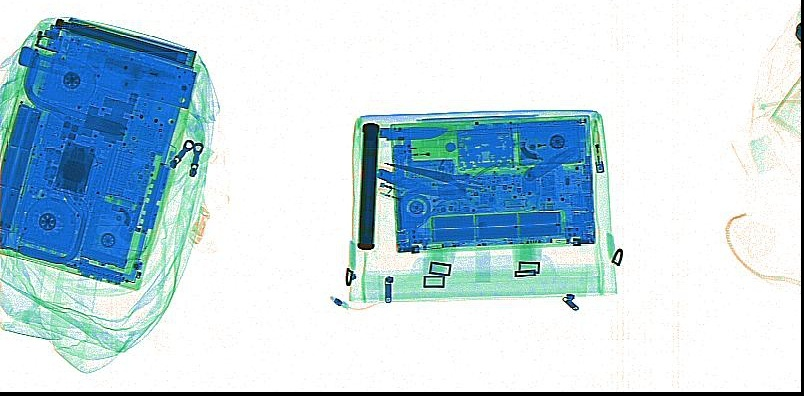knife: (16, 29, 197, 106), (524, 143, 573, 182), (373, 163, 429, 194), (374, 125, 449, 140)
lighter: (587, 118, 604, 173)
scissors: (383, 157, 494, 204)
